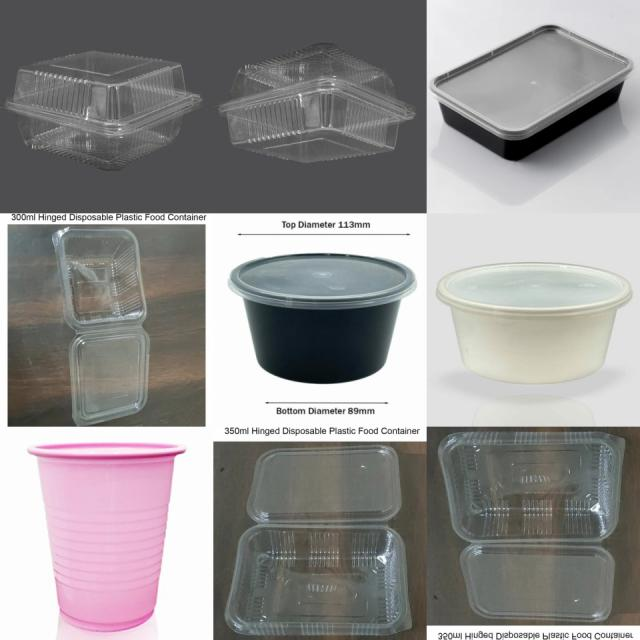Single-Use-Plastic: (224, 445, 412, 636), (439, 431, 625, 622), (29, 444, 182, 631), (430, 25, 632, 160), (229, 254, 416, 384), (436, 262, 632, 383), (218, 42, 415, 162), (4, 51, 202, 169), (52, 228, 150, 425)
